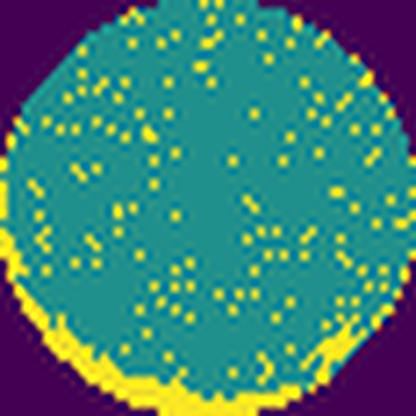Edge-Ring: (0, 110, 371, 416)
